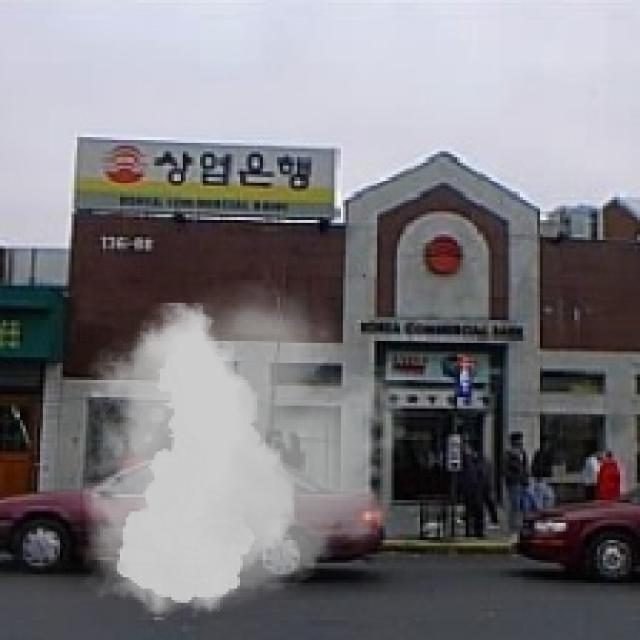Smoke: (54, 280, 429, 626)
